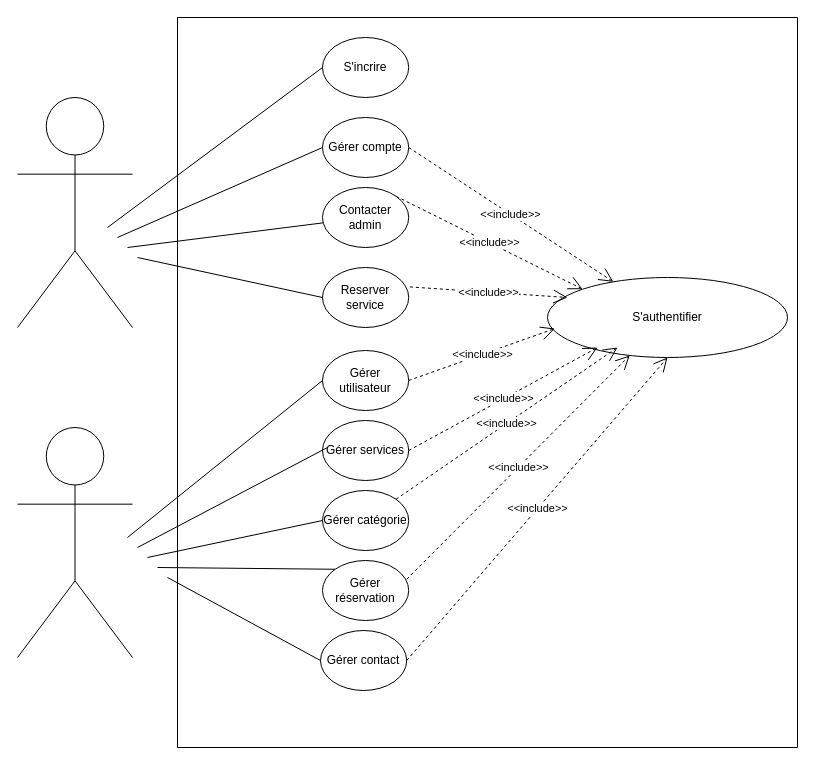
The diagram is 815 pixels wide and 765 high, and some of its shapes have lost their labels. Here are the shapes that lost their labels. From the top down, the box of each, then its label:
(16, 96, 132, 328): Utilisateur
(16, 426, 132, 658): Admin
